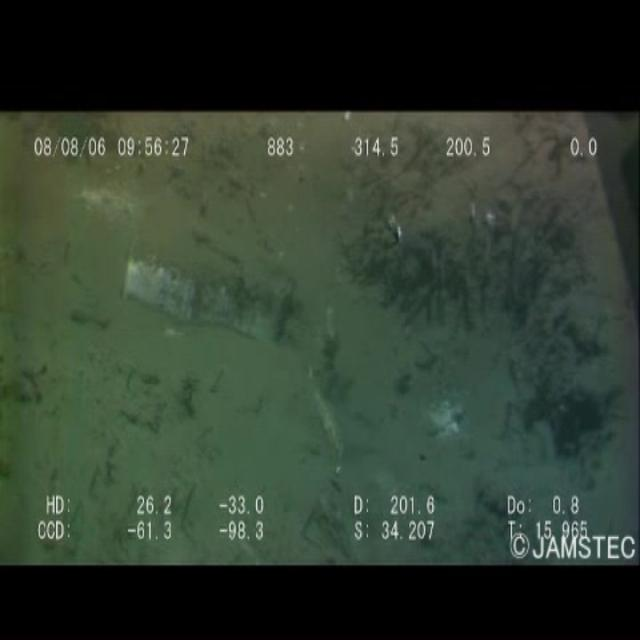Glass: (85, 225, 300, 386)
